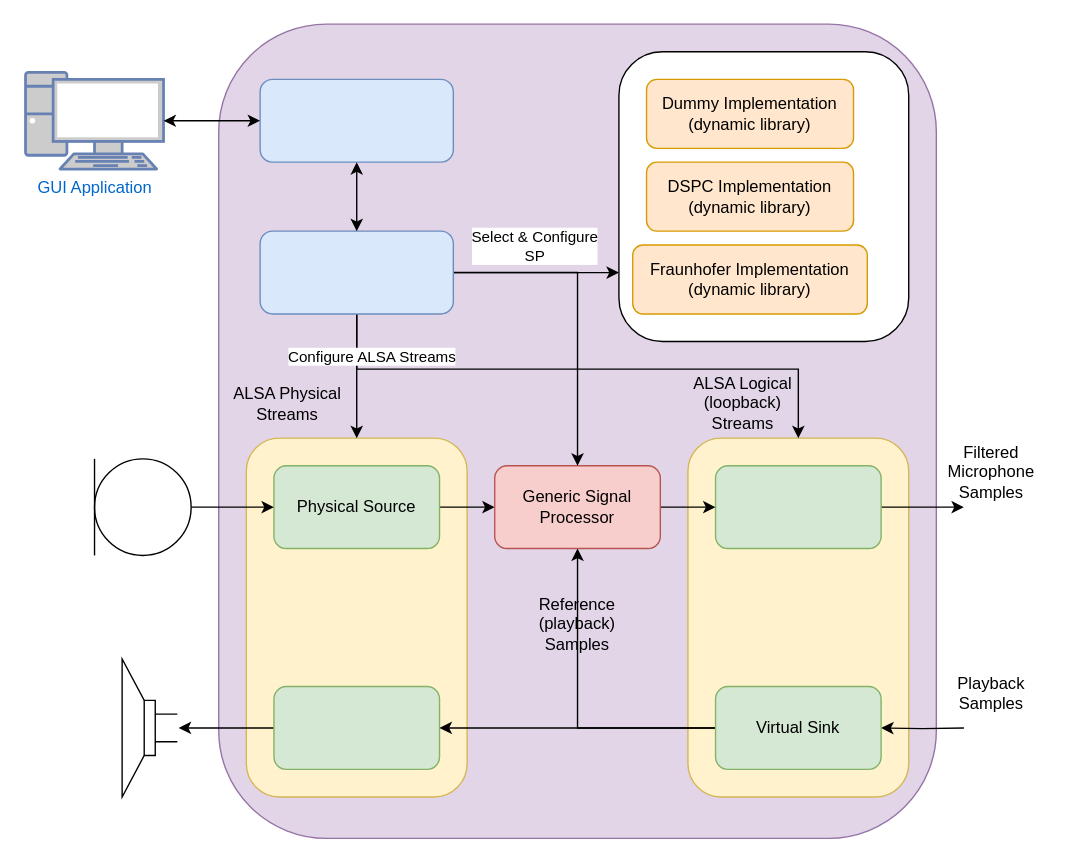
The diagram is 1083 pixels wide and 863 high, and some of its shapes have lost their labels. Here are the shapes that lost their labels. From the top down, the centre of each, then its label:
(x=356, y=120): Communication interface (Ethernet)
(x=356, y=272): Controller (application main logic)
(x=797, y=506): Virtual Source
(x=356, y=727): Physical Sink
